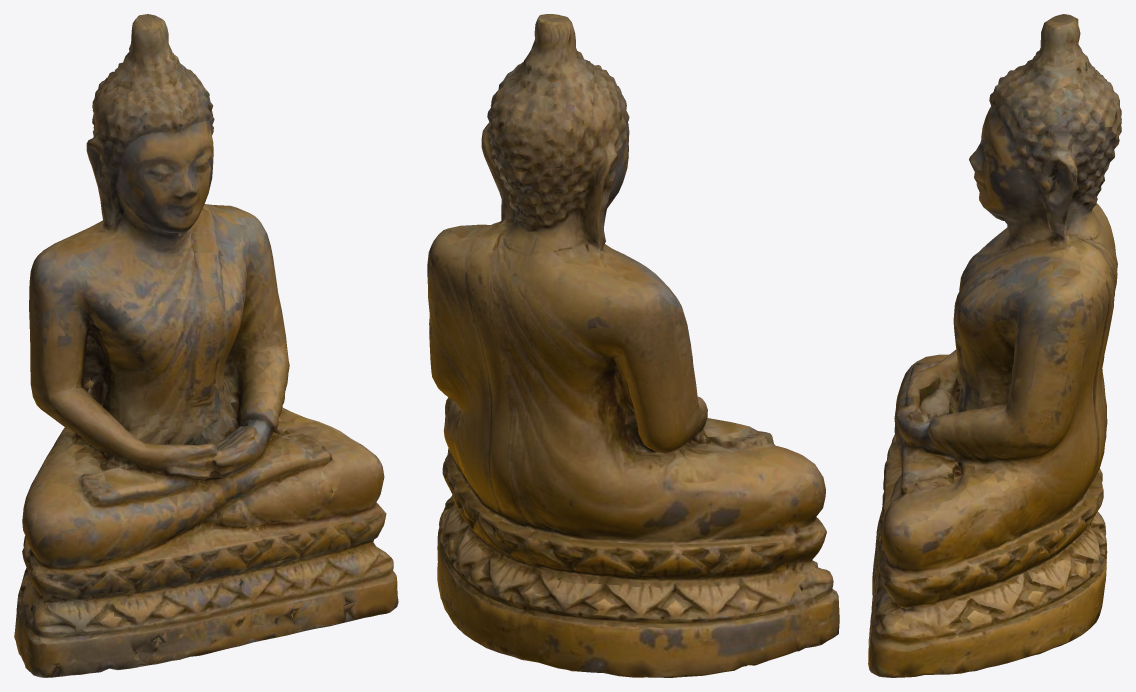
3 views of the same model, side by side, from view 1: azimuth 30°, elevation 25°; view 2: azimuth 150°, elevation 25°; view 3: azimuth 270°, elevation 25° (orthographic). The views are drawn at different scales.
Visible parts, largest first — view 1: statue-011; view 2: statue-011; view 3: statue-011.
Boxes of the visible parts, x1,y1,x2,y2 form: statue-011: [14, 14, 398, 677]; statue-011: [427, 14, 839, 677]; statue-011: [868, 14, 1121, 677].
Size of the model in its own units: 0.6459 by 0.9995 by 0.3946.
1 material, 1 textured.
